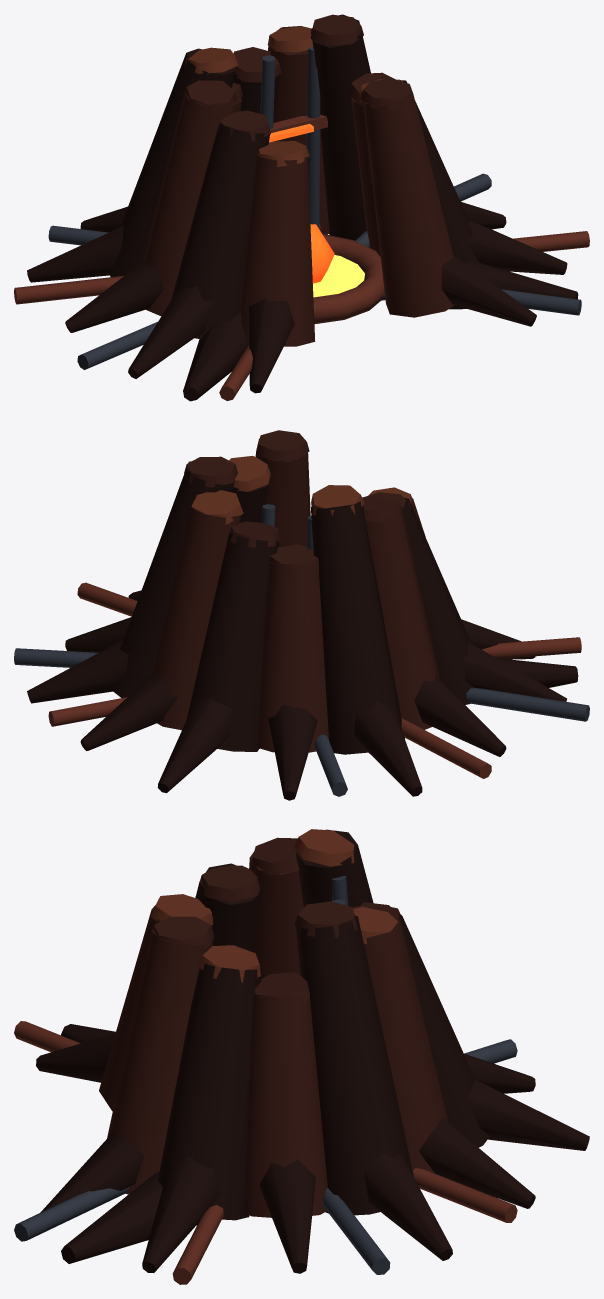
File: prop_tree_giant.glb
The picture shows the model from 3 angles, top to bottom: view 1: azimuth 30°, elevation 25°; view 2: azimuth 150°, elevation 25°; view 3: azimuth 270°, elevation 25°; orthographic projection. The views are drawn at different scales.
Parts seen in each view (by area): view 1: stump_stave_10, stump_stave_1, stump_stave_0, stump_stave_2, stump_stave_7, stump_stave_3, buttress_root_1, furnace_pit_ring, buttress_root_2, gate_root_l, buttress_root_10, stump_stave_6 (+29 smaller); view 2: stump_stave_3, stump_stave_5, stump_stave_4, stump_stave_6, stump_stave_2, stump_stave_7, stump_stave_1, buttress_root_5, stump_stave_10, buttress_root_3, buttress_root_2, buttress_root_6 (+22 smaller); view 3: stump_stave_7, stump_stave_9, stump_stave_8, stump_stave_10, stump_stave_6, stump_stave_5, buttress_root_9, buttress_root_7, stump_stave_2, buttress_root_6, buttress_root_5, buttress_root_8 (+23 smaller).
Part boxes in pixels (x1,y1,x2,y2): stump_stave_10: [363, 87, 454, 317]; stump_stave_1: [171, 122, 269, 339]; stump_stave_0: [240, 154, 315, 346]; stump_stave_2: [143, 92, 235, 316]; stump_stave_7: [311, 14, 370, 240]; stump_stave_3: [109, 48, 235, 277]; buttress_root_1: [128, 286, 214, 378]; furnace_pit_ring: [313, 234, 384, 324]; buttress_root_2: [65, 257, 163, 332]; gate_root_l: [183, 312, 249, 401]; buttress_root_10: [441, 255, 536, 326]; stump_stave_6: [268, 26, 329, 234]; stump_stave_3: [311, 501, 405, 754]; stump_stave_5: [187, 532, 279, 751]; stump_stave_4: [257, 562, 328, 752]; stump_stave_6: [153, 501, 241, 730]; stump_stave_2: [365, 504, 440, 729]; stump_stave_7: [111, 461, 234, 697]; stump_stave_1: [402, 497, 474, 704]; buttress_root_5: [157, 699, 231, 793]; stump_stave_10: [255, 438, 310, 546]; buttress_root_3: [354, 701, 422, 796]; buttress_root_2: [414, 675, 506, 756]; buttress_root_6: [80, 674, 177, 750]; stump_stave_7: [296, 915, 413, 1215]; stump_stave_9: [158, 963, 261, 1220]; stump_stave_8: [245, 994, 327, 1217]; stump_stave_10: [107, 930, 213, 1194]; stump_stave_6: [364, 919, 447, 1173]; stump_stave_5: [399, 913, 489, 1147]; buttress_root_9: [142, 1156, 219, 1272]; buttress_root_7: [363, 1152, 452, 1260]; stump_stave_2: [249, 844, 303, 978]; buttress_root_6: [418, 1118, 535, 1208]; buttress_root_5: [468, 1080, 589, 1150]; buttress_root_8: [259, 1159, 315, 1273].
Size of the model in its own units: 36.32 by 17.28 by 30.28.
